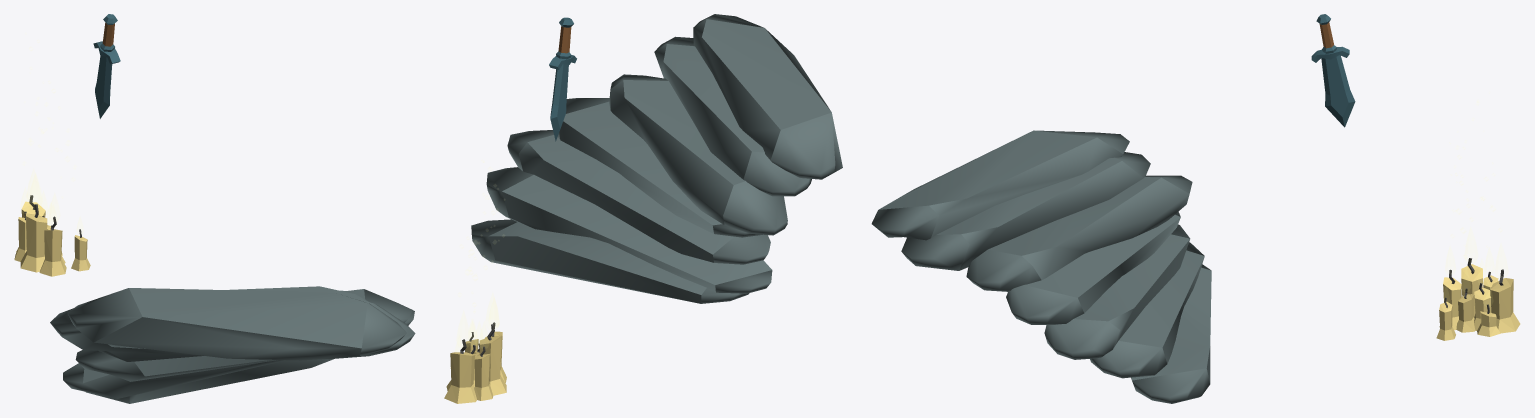
The picture shows the model from 3 angles, left to right: view 1: azimuth 30°, elevation 25°; view 2: azimuth 150°, elevation 25°; view 3: azimuth 270°, elevation 25°; orthographic projection. The views are drawn at different scales.
Visible parts, largest first — view 1: Box757_rock_0, Cylinder1564_yellow2_0, Box753_rock_0, Box752_rock_0, Box751_rock_0, Box755_rock_0, Box754_rock_0, Plane265_metal_0, Box756_rock_0; view 2: Box757_rock_0, Box755_rock_0, Box753_rock_0, Box752_rock_0, Box751_rock_0, Box756_rock_0, Box754_rock_0, Cylinder1564_yellow2_0, Plane265_metal_0; view 3: Box757_rock_0, Box755_rock_0, Box756_rock_0, Box754_rock_0, Box753_rock_0, Box752_rock_0, Box751_rock_0, Cylinder1564_yellow2_0, Plane265_metal_0.
Boxes of the visible parts, x1,y1,x2,y2 form: Box757_rock_0: (67, 288, 406, 360); Cylinder1564_yellow2_0: (14, 201, 90, 276); Box753_rock_0: (75, 290, 414, 381); Box752_rock_0: (63, 360, 285, 398); Box751_rock_0: (86, 359, 333, 403); Box755_rock_0: (50, 286, 369, 354); Box754_rock_0: (99, 289, 412, 361); Plane265_metal_0: (95, 55, 112, 118); Box756_rock_0: (108, 294, 415, 359); Box757_rock_0: (693, 14, 842, 179); Box755_rock_0: (609, 74, 787, 235); Box753_rock_0: (507, 130, 770, 264); Box752_rock_0: (486, 167, 772, 293); Box751_rock_0: (471, 219, 749, 303); Box756_rock_0: (654, 36, 811, 196); Box754_rock_0: (558, 98, 762, 237); Cylinder1564_yellow2_0: (444, 331, 506, 403); Plane265_metal_0: (550, 64, 568, 141); Box757_rock_0: (871, 130, 1129, 240); Box755_rock_0: (966, 175, 1192, 291); Box756_rock_0: (901, 152, 1150, 270); Box754_rock_0: (1006, 212, 1180, 324); Box753_rock_0: (1044, 224, 1190, 359); Box752_rock_0: (1090, 242, 1204, 378); Box751_rock_0: (1131, 264, 1211, 403); Cylinder1564_yellow2_0: (1436, 264, 1520, 340); Plane265_metal_0: (1321, 55, 1355, 127).
Size of the model in its own units: 306 by 282 by 525.
